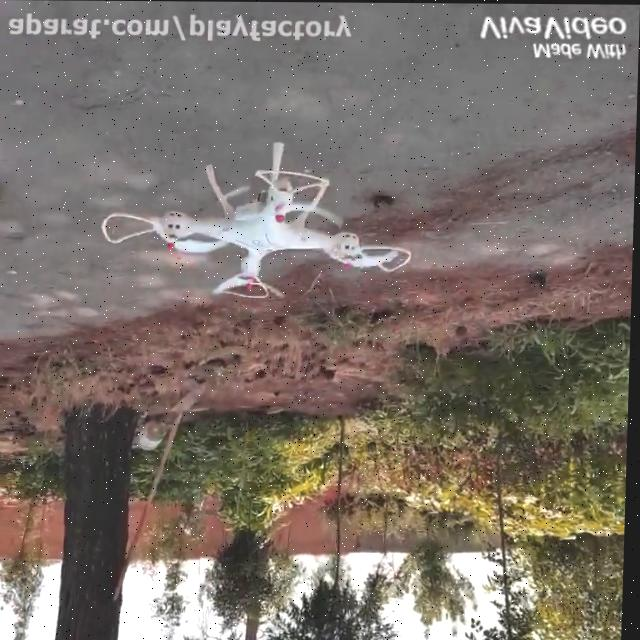drone: (101, 140, 417, 301)
